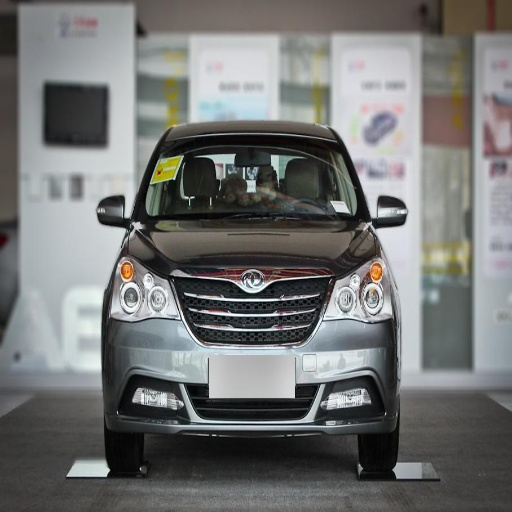front_bumper: (103, 255, 400, 436)
front_right_light: (116, 254, 176, 319)
hood: (132, 219, 375, 276)
